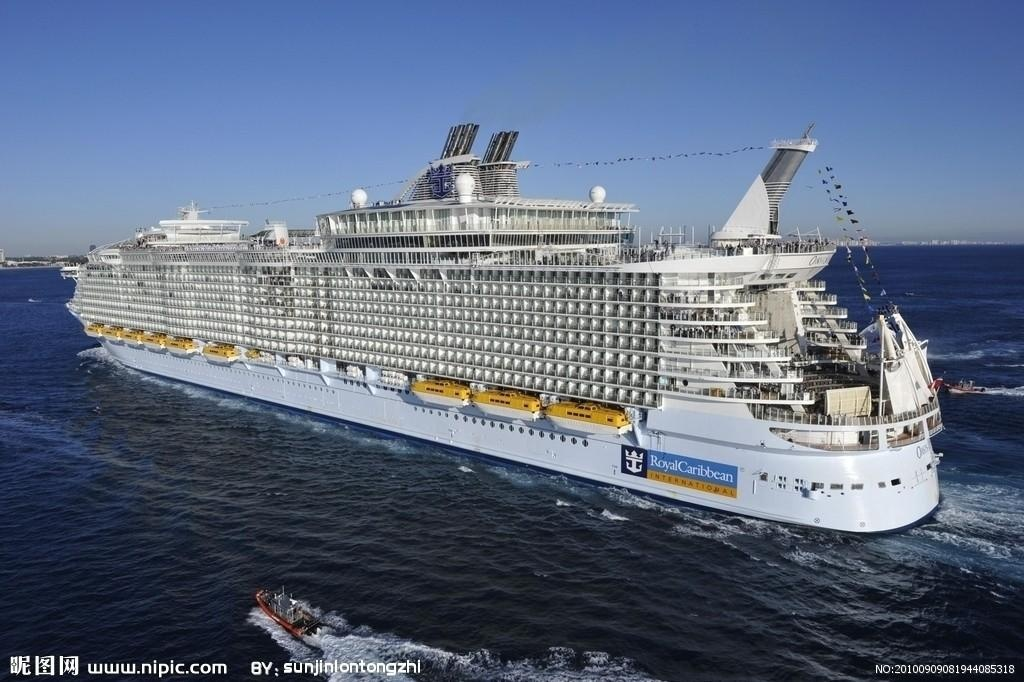youlun: (60, 115, 948, 536)
